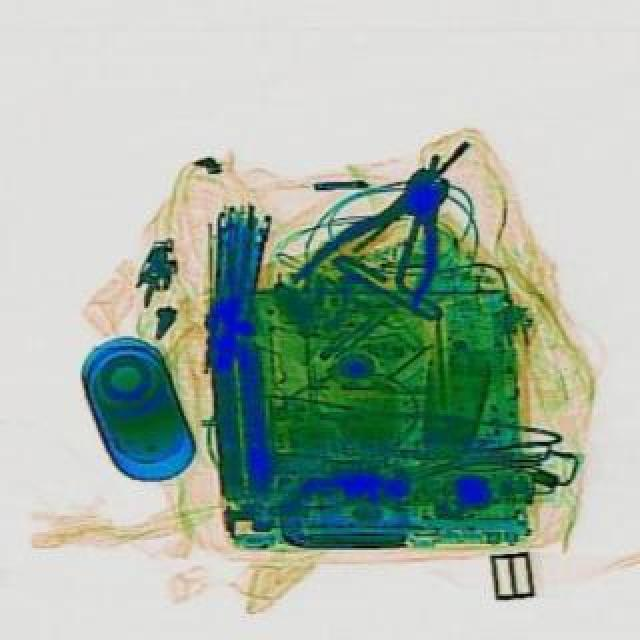wrench: (288, 142, 488, 338)
